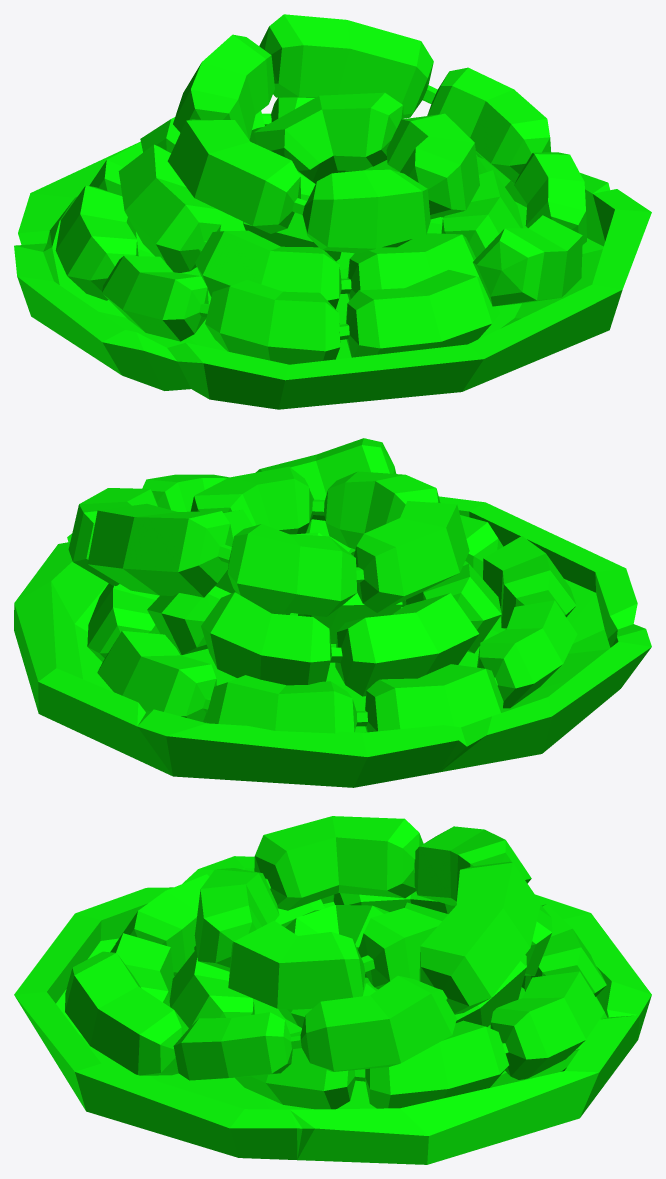
Rendered from SM_Sausages_Wreath_Fantasy.fbx.
3 views of the same model, one above another, from view 1: azimuth 30°, elevation 25°; view 2: azimuth 150°, elevation 25°; view 3: azimuth 270°, elevation 25° (orthographic).
Parts seen in each view (by area): view 1: sausages-wreath-fantasy; view 2: sausages-wreath-fantasy; view 3: sausages-wreath-fantasy.
Boxes of the visible parts, <box> form: sausages-wreath-fantasy: <box>14,14,651,409</box>; sausages-wreath-fantasy: <box>14,438,651,787</box>; sausages-wreath-fantasy: <box>14,816,651,1164</box>.
Size of the model in its own units: 0.4552 by 0.1707 by 0.4539.
